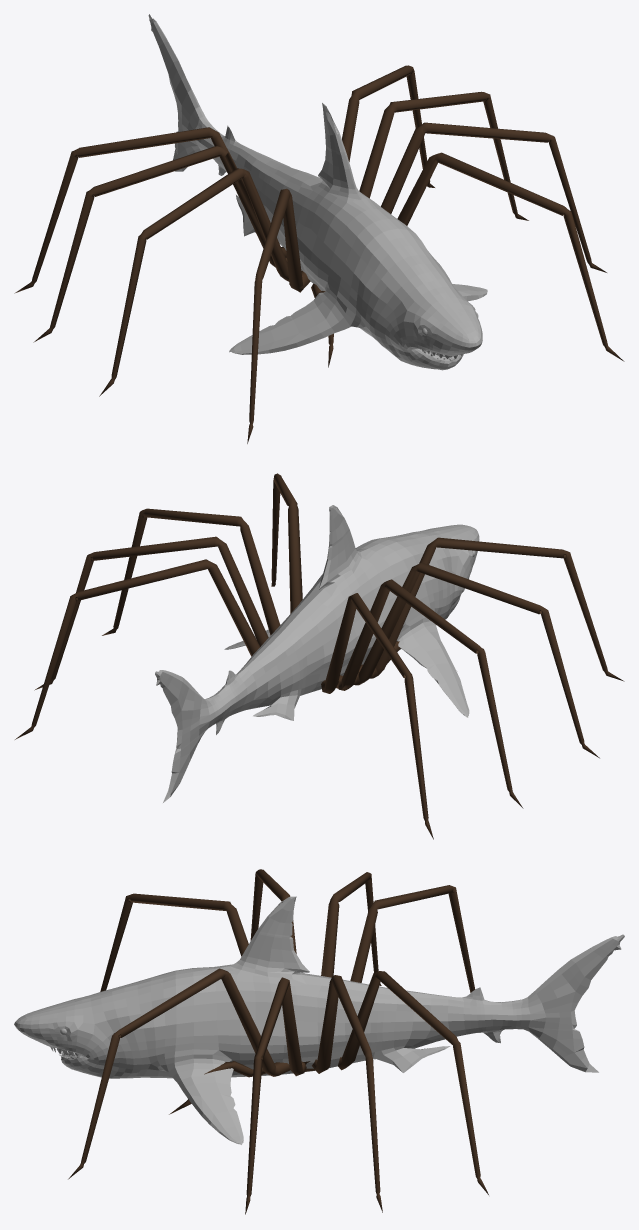
Rendered from spider_shark_hybrid.fbx.
3 views of the same model, one above another, from view 1: azimuth 30°, elevation 25°; view 2: azimuth 150°, elevation 25°; view 3: azimuth 270°, elevation 25° (orthographic). The views are drawn at different scales.
Parts seen in each view (by area): view 1: Shark1:eyes2; view 2: Shark1:eyes2; view 3: Shark1:eyes2.
Part boxes in pixels (x1=…): Shark1:eyes2: x1=14, y1=14, x2=624, y2=443; Shark1:eyes2: x1=15, y1=473, x2=624, y2=839; Shark1:eyes2: x1=14, y1=869, x2=624, y2=1214.
Bounding box in the file's own units: 40.93 × 16.49 × 45.42.
